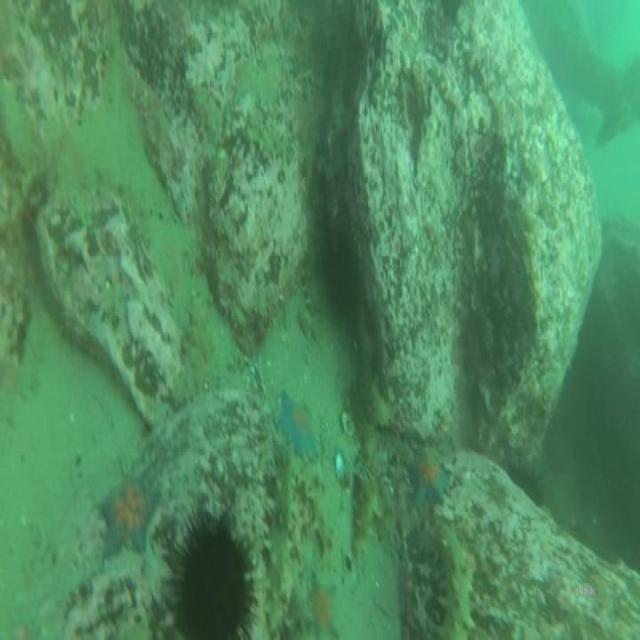echinus: (170, 510, 252, 640), (321, 237, 365, 324)
holothurian: (266, 453, 294, 628), (172, 294, 212, 409), (435, 520, 473, 640), (351, 476, 385, 561), (362, 384, 392, 455)
starfish: (93, 466, 160, 564), (274, 386, 322, 463), (406, 438, 452, 512), (306, 567, 340, 640)
